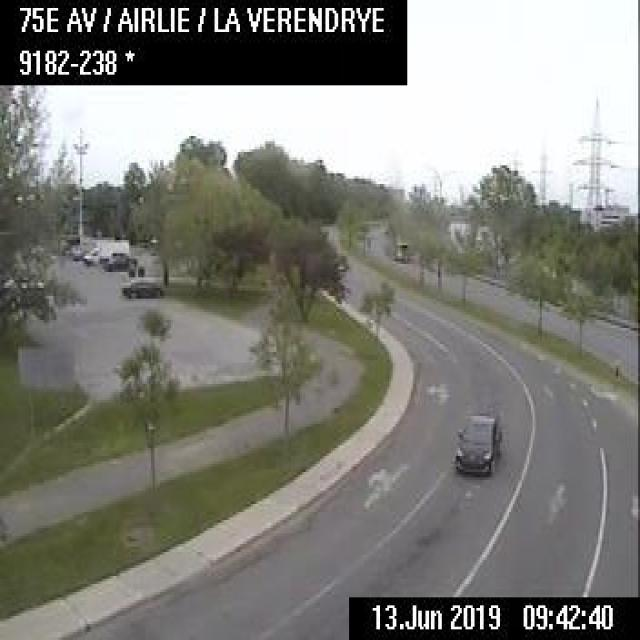vehicle: (450, 408, 504, 476), (1, 274, 44, 309), (83, 238, 128, 266), (120, 275, 163, 299), (102, 250, 136, 268)
